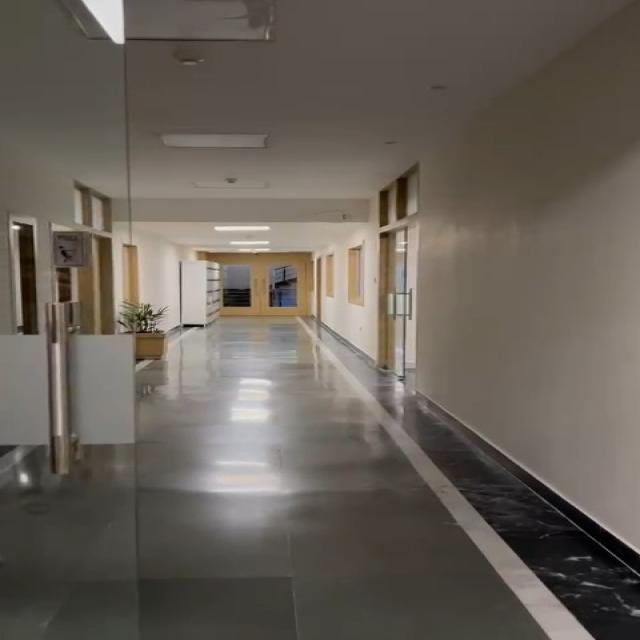door: (368, 197, 434, 385), (187, 248, 319, 337)
floor: (184, 310, 374, 620)
furniture: (123, 288, 174, 371)
wall: (432, 125, 640, 450)
